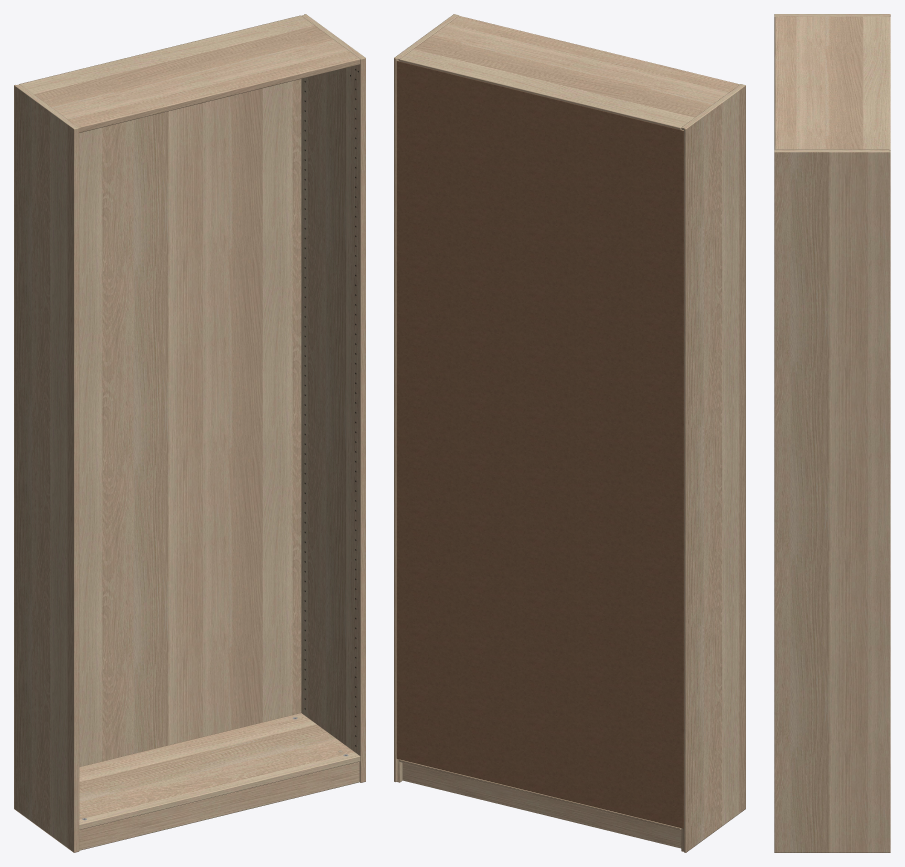
3 renders of one model, left to right at view 1: azimuth 30°, elevation 25°; view 2: azimuth 150°, elevation 25°; view 3: azimuth 270°, elevation 25°, orthographic. The views are drawn at different scales.
Parts seen in each view (by area): view 1: 90273411_02; view 2: 90273411_02; view 3: 90273411_02.
Part boxes in pixels (x1=…): 90273411_02: x1=14, y1=14, x2=365, y2=852; 90273411_02: x1=394, y1=14, x2=745, y2=852; 90273411_02: x1=774, y1=14, x2=890, y2=852.
Bounding box in the file's own units: 0.9975 × 2.36 × 0.355.
5 materials, 4 textured.
